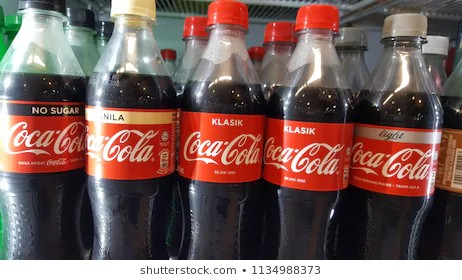coke-bottle-700ml: (178, 1, 265, 259), (271, 1, 353, 258)
coke-diet/zero-bottle-700ml: (351, 1, 452, 258), (86, 1, 175, 257), (1, 1, 84, 263)
